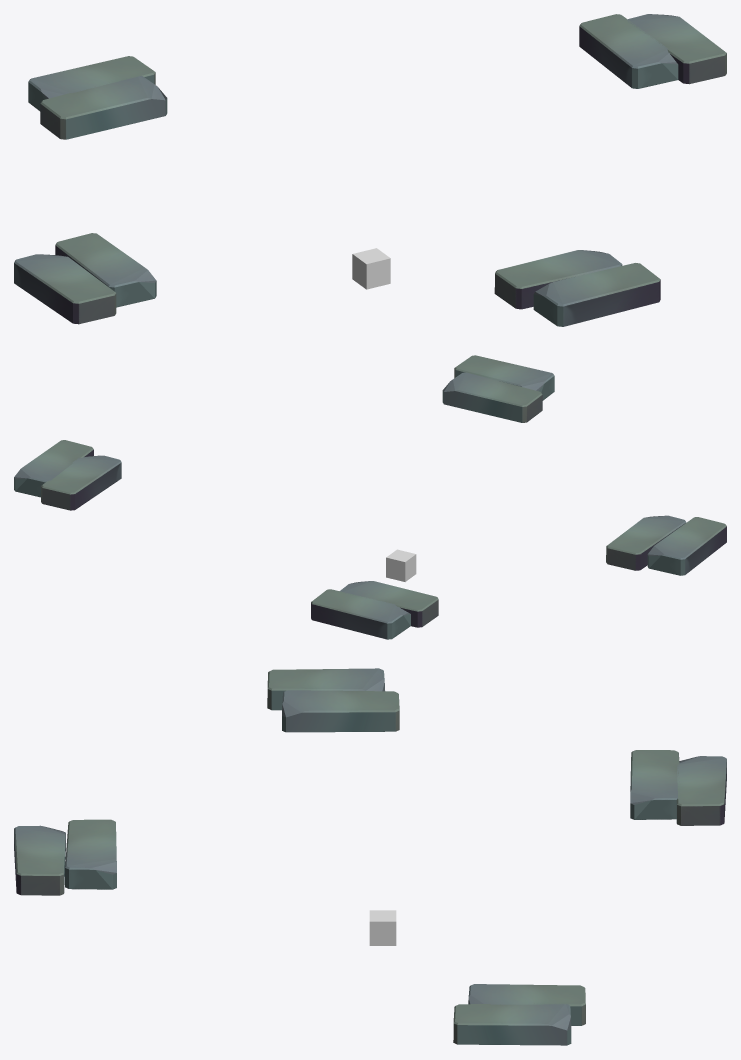
The model's file is award-floor013-2.fbx.
3 views of the same model, one above another, from view 1: azimuth 30°, elevation 25°; view 2: azimuth 150°, elevation 25°; view 3: azimuth 270°, elevation 25° (orthographic). The views are drawn at different scales.
Parts seen in each view (by area): view 1: Cube.019, Cube.025, Cube.030, Cube.027, Cube.031, Cube.021, Cube.028, Cube.024, award-floor013-2; view 2: Cube.021, Cube.024, Cube.030, Cube.027, Cube.031, Cube.028, Cube.019, Cube.025, award-floor013-2; view 3: Cube.031, Cube.028, Cube.021, Cube.019, Cube.024, Cube.025, Cube.030, Cube.027, award-floor013-2.
Boxes of the visible parts, box(x1,y1,x2,y2) form: Cube.019: box(533, 263, 660, 326); Cube.025: box(40, 75, 167, 139); Cube.030: box(14, 254, 116, 324); Cube.027: box(579, 14, 678, 88); Cube.031: box(55, 233, 156, 307); Cube.021: box(494, 250, 622, 309); Cube.028: box(627, 14, 726, 84); Cube.024: box(28, 56, 155, 111); award-floor013-2: box(352, 248, 390, 289); Cube.021: box(442, 372, 542, 422); Cube.024: box(311, 589, 410, 639); Cube.030: box(647, 517, 726, 575); Cube.027: box(41, 455, 121, 510); Cube.031: box(606, 515, 686, 570); Cube.028: box(14, 440, 93, 497); Cube.019: box(454, 355, 554, 400); Cube.025: box(340, 581, 438, 627); award-floor013-2: box(386, 549, 416, 581); Cube.031: box(282, 690, 399, 732); Cube.028: box(453, 1003, 571, 1045); Cube.021: box(65, 819, 116, 889); Cube.019: box(14, 825, 65, 895); Cube.024: box(676, 756, 726, 825); Cube.025: box(630, 750, 679, 819); Cube.030: box(267, 668, 384, 710); Cube.027: box(468, 984, 585, 1025); award-floor013-2: box(369, 910, 396, 945).
Bounding box in the file's own units: 1862 × 277 × 1588.
